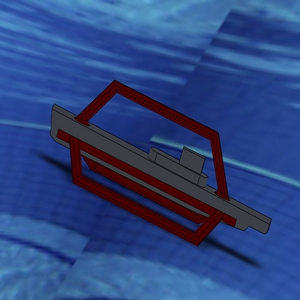submarine: (31, 53, 285, 263)
